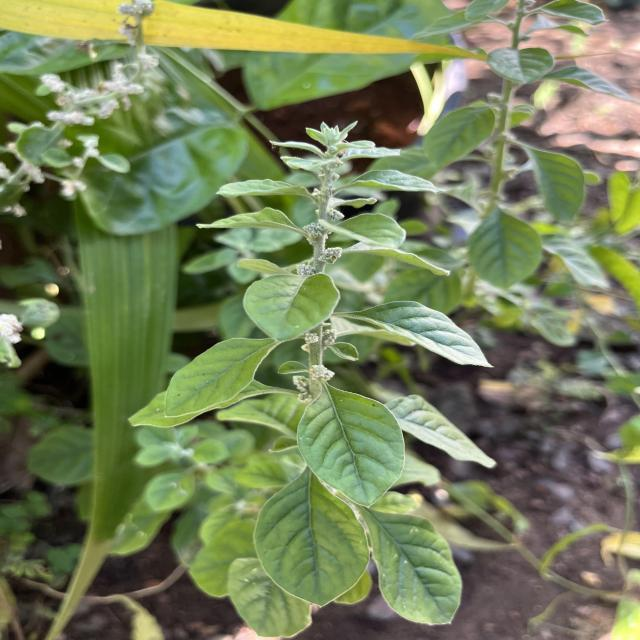Aerva lanata: (250, 472, 372, 610), (294, 381, 408, 508), (364, 506, 466, 626), (350, 298, 498, 371), (158, 335, 278, 421)
